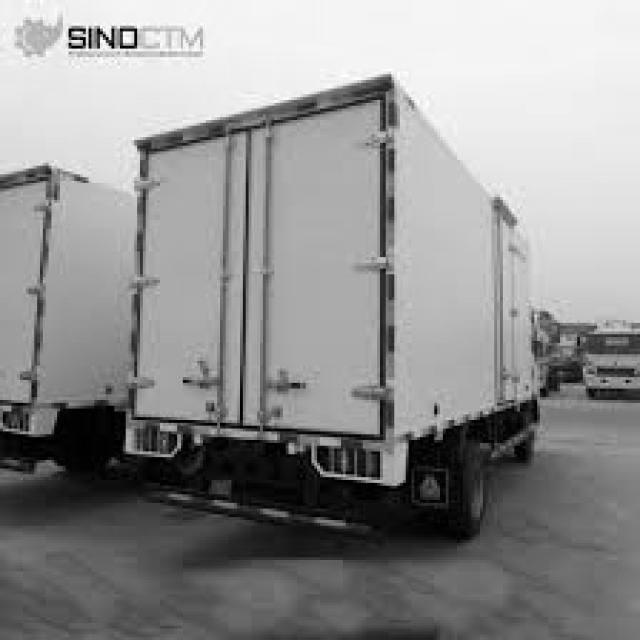truck: (115, 66, 549, 546)
